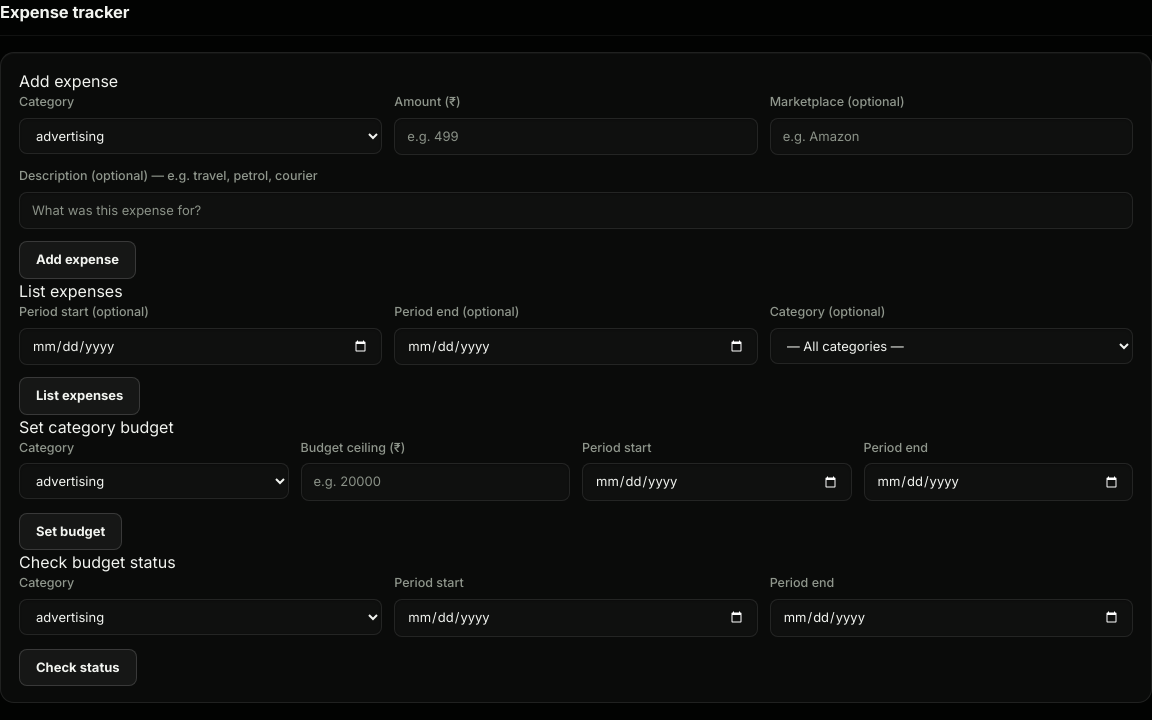
Test: Expense Tracker › confirms an added expense with the toast, once the backend has answered, and keeps the category usable
Type "499" into the field with placeholder "e.g. 499". click: (576, 136)
box: [394,118,758,155]
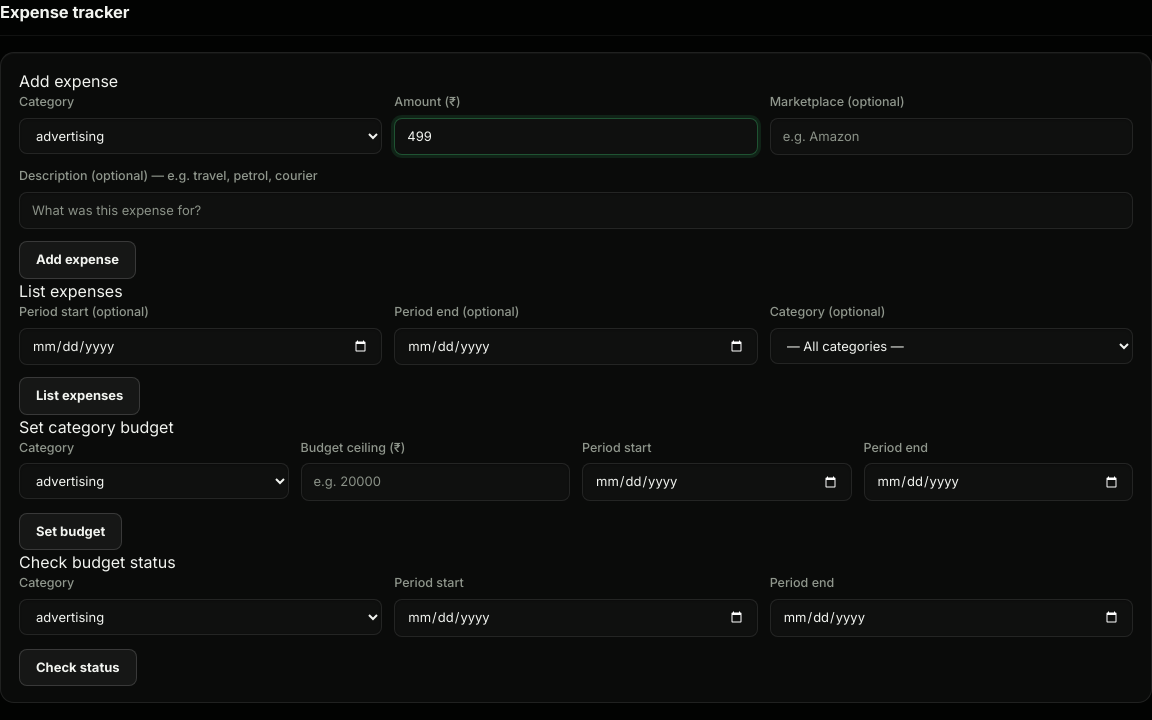
Click the button "Add expense". click: (78, 260)
box: [19,241,136,279]
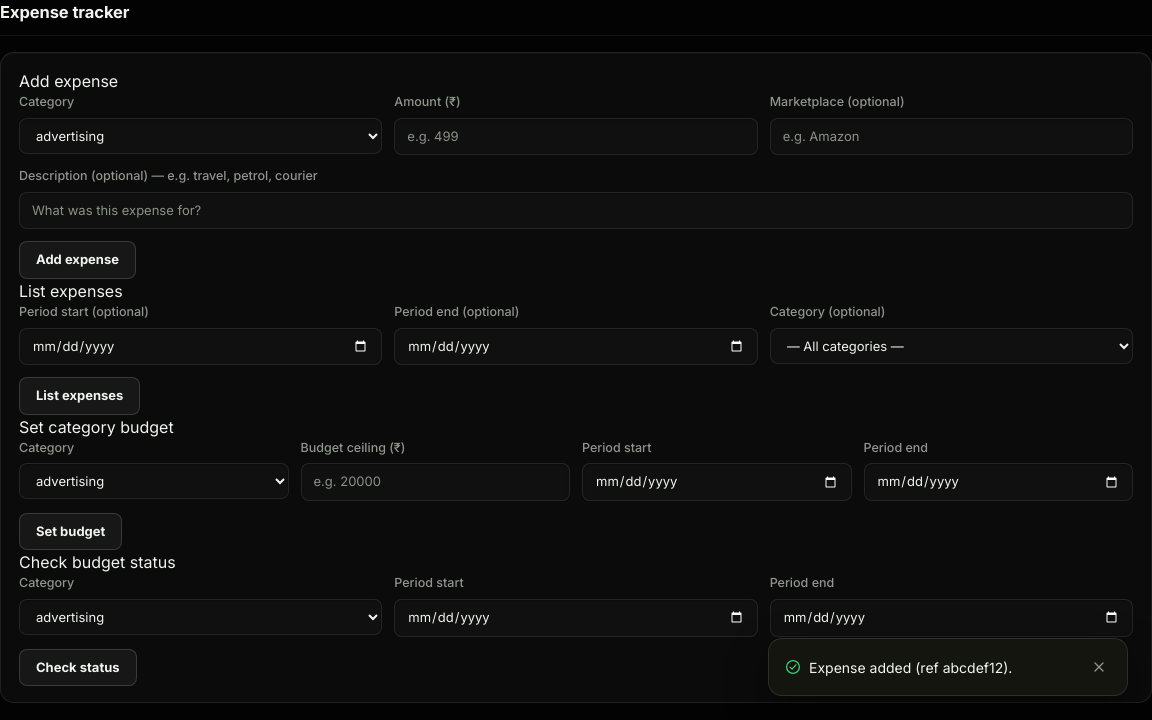
Expected: the dropdown labelled "Category" below "Amount (₹)" shows "advertising", [19,118,382,154]
Result: the message reads "Expense added (ref abcdef12)." at [809,658,1012,676]
